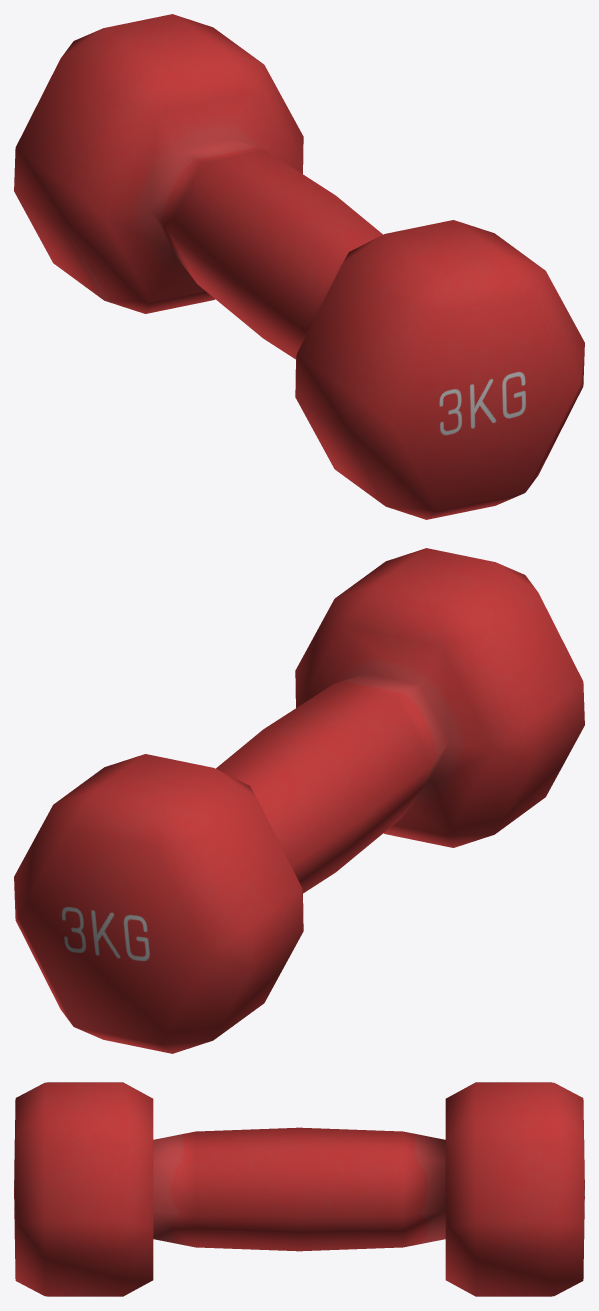
File: dumbbell.glb
3 renders of one model, top to bottom at view 1: azimuth 30°, elevation 25°; view 2: azimuth 150°, elevation 25°; view 3: azimuth 270°, elevation 25°, orthographic. The views are drawn at different scales.
Visible parts, largest first — view 1: Mini Dumbbell_3_mini_dumbell 3_0; view 2: Mini Dumbbell_3_mini_dumbell 3_0; view 3: Mini Dumbbell_3_mini_dumbell 3_0.
Boxes of the visible parts, x1,y1,x2,y2 form: Mini Dumbbell_3_mini_dumbell 3_0: (14,14,584,519); Mini Dumbbell_3_mini_dumbell 3_0: (14,548,584,1053); Mini Dumbbell_3_mini_dumbell 3_0: (14,1082,584,1296).
Size of the model in its own units: 1.32 by 1.32 by 3.58.
1 material, 1 textured.
